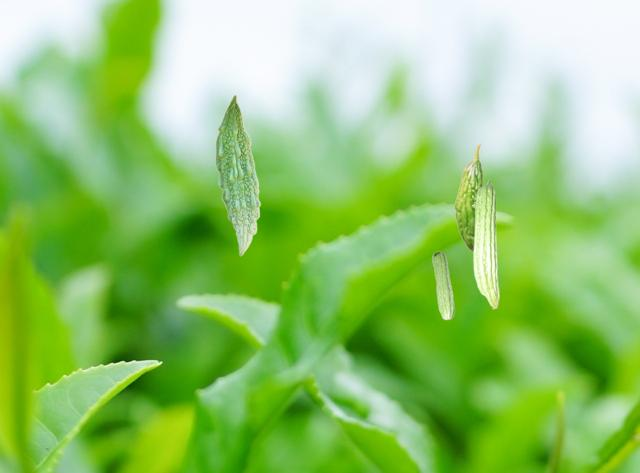ampalaya: (215, 94, 261, 256), (472, 179, 499, 309), (453, 142, 483, 252), (431, 251, 455, 320)
